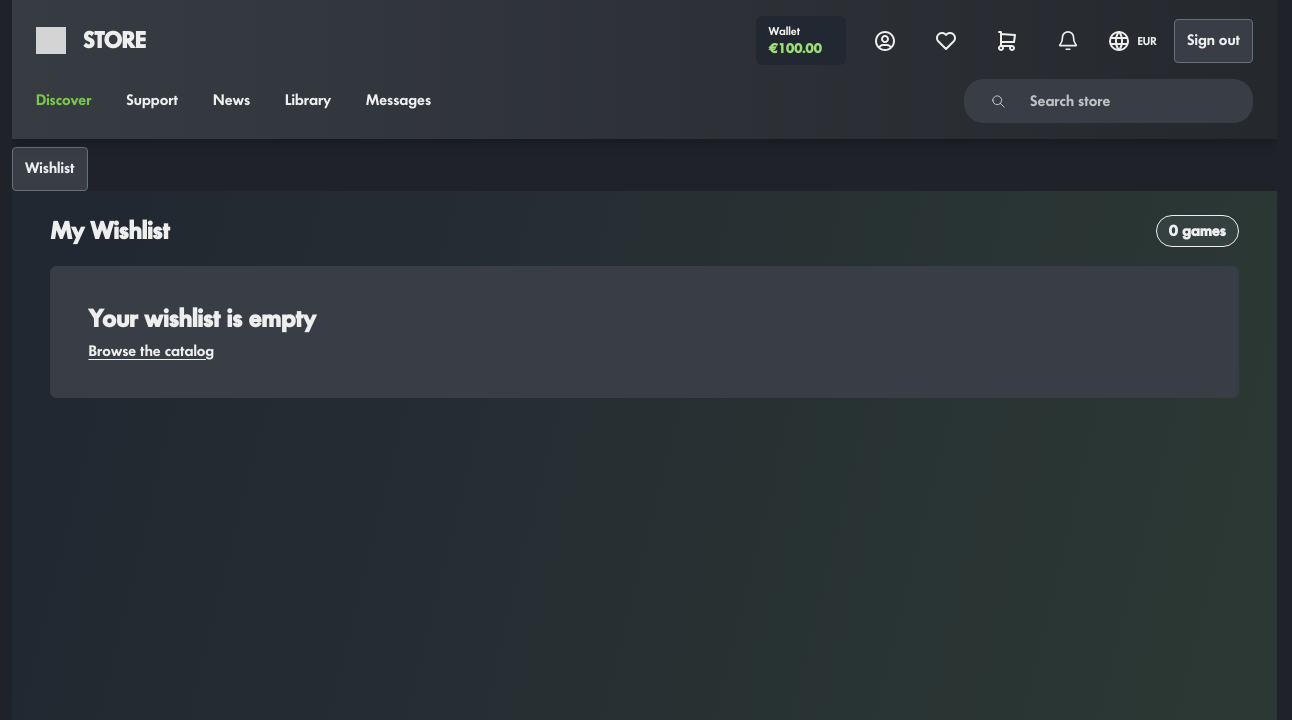
it: still exposes genuinely mismatched prices and permits a read-only retry
Click the button "Wishlist". click: (50, 169)
box: [12, 147, 88, 191]
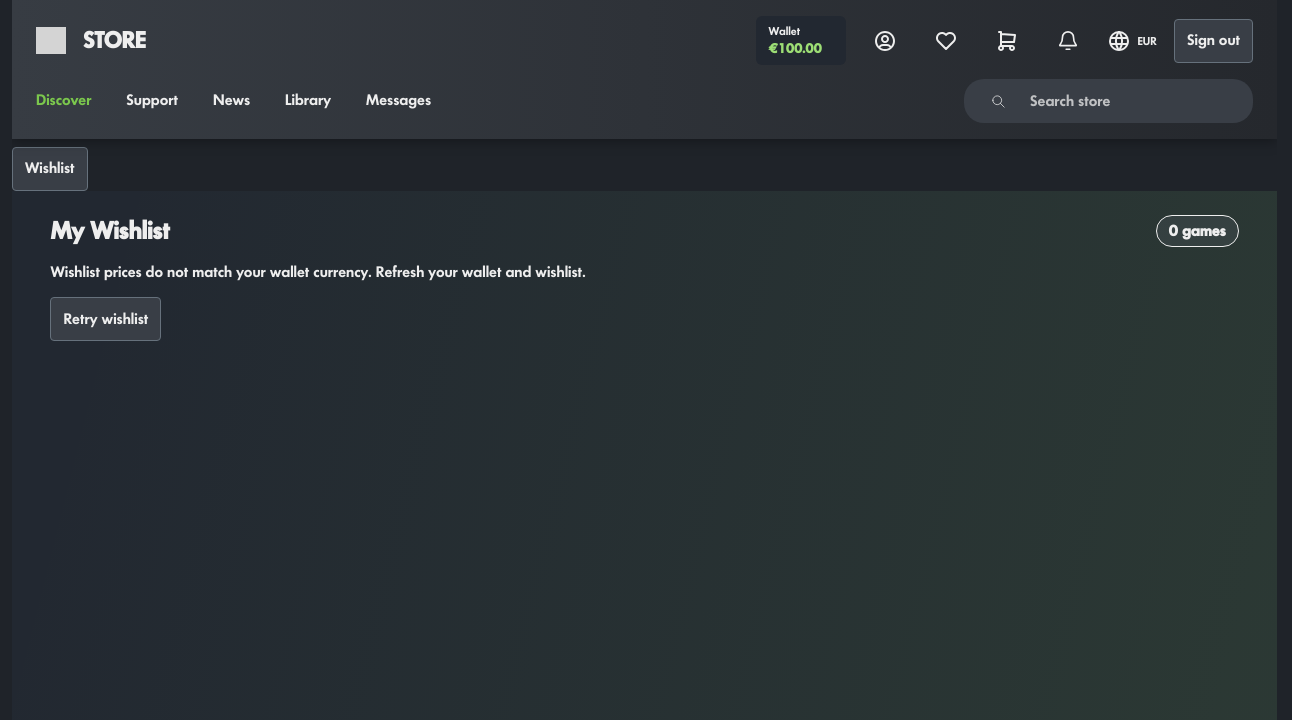
Check: the message shows "Wishlist prices do not match your wallet currency.", box [50, 264, 586, 280]
Click the button "Retry wishlist". click: (106, 319)
box: [50, 297, 161, 341]
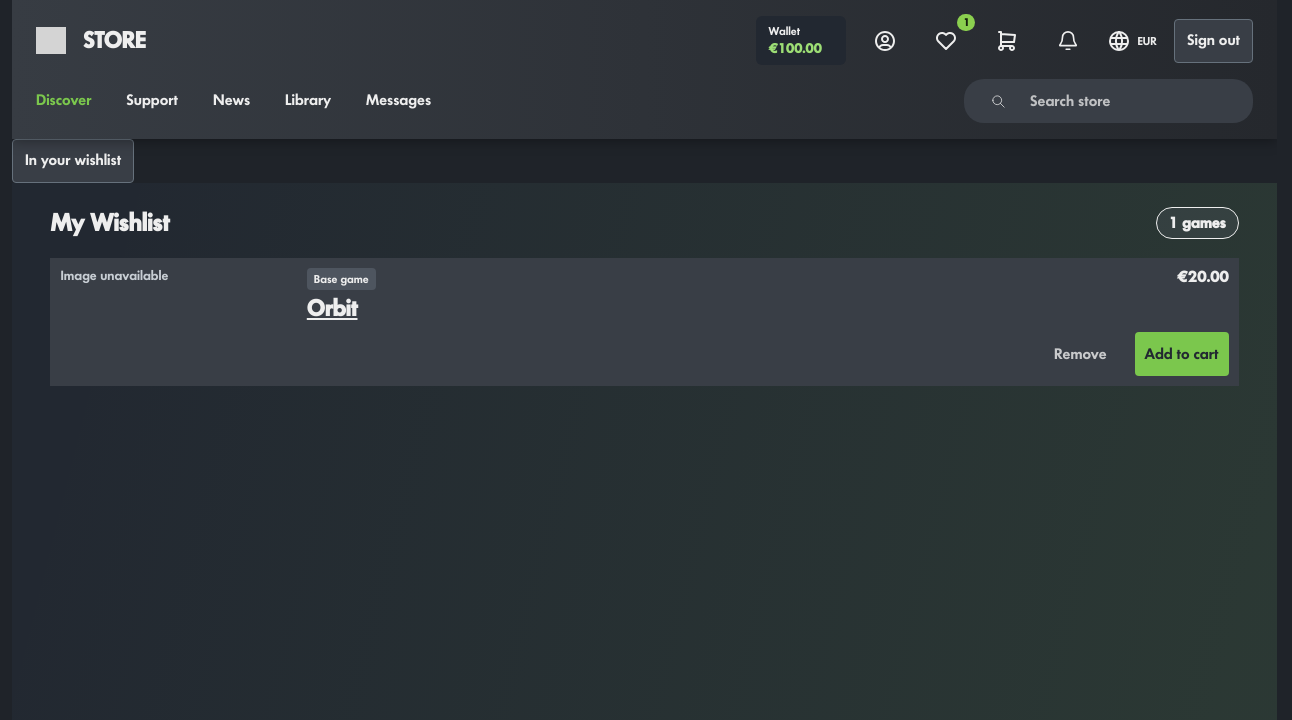
Check: the text "€20.00" is shown, box [1177, 268, 1229, 286]
Check: the message is gone
